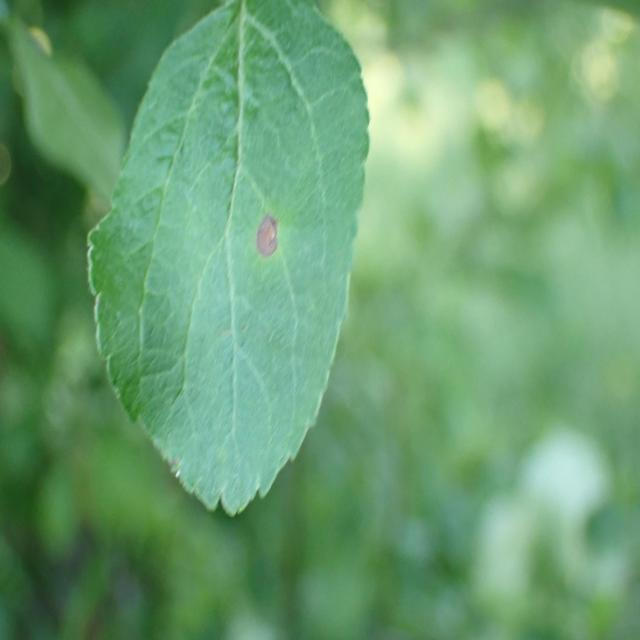Black Rot: (227, 189, 296, 293)
